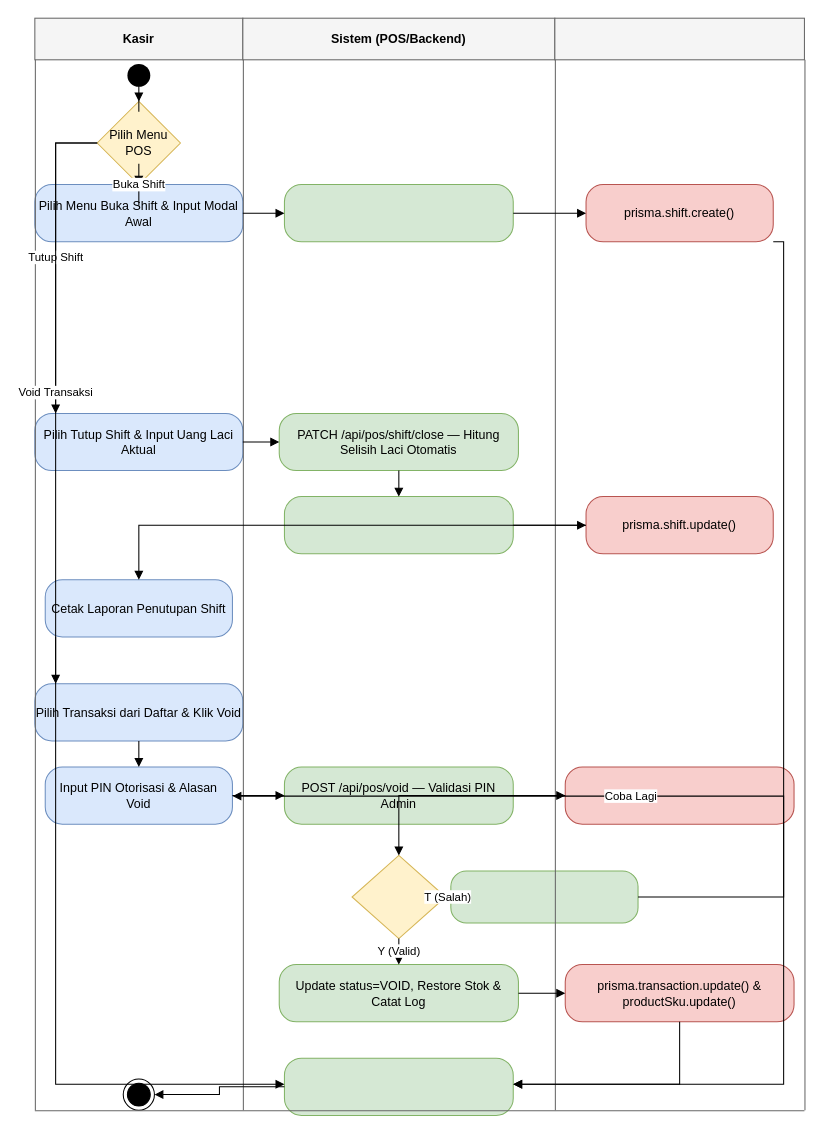
The diagram is 824 pixels wide and 1134 high, and some of its shapes have lost their labels. The shapes that lost their labels are listed below. From the top down, each one's centre as x and y in pixels, then its label:
At [679,38]: "Database".
At [398,213]: "POST /api/pos/shift/open — Simpan Shift Baru (OPEN)".
At [398,525]: "Update Shift ke DB (Status CLOSED & Selisih)".
At [679,795]: "Query Admin PIN & Ambil Data Transaksi".
At [398,896]: "PIN Valid?".
At [544,896]: "Tampilkan Error: PIN Salah".
At [398,1086]: "Tampilkan Notifikasi Berhasil ke Layar Kasir".
